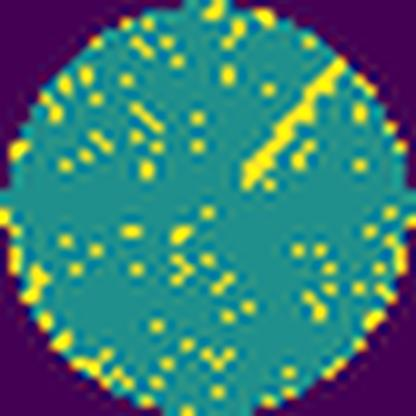Scratch: (237, 58, 347, 194)
